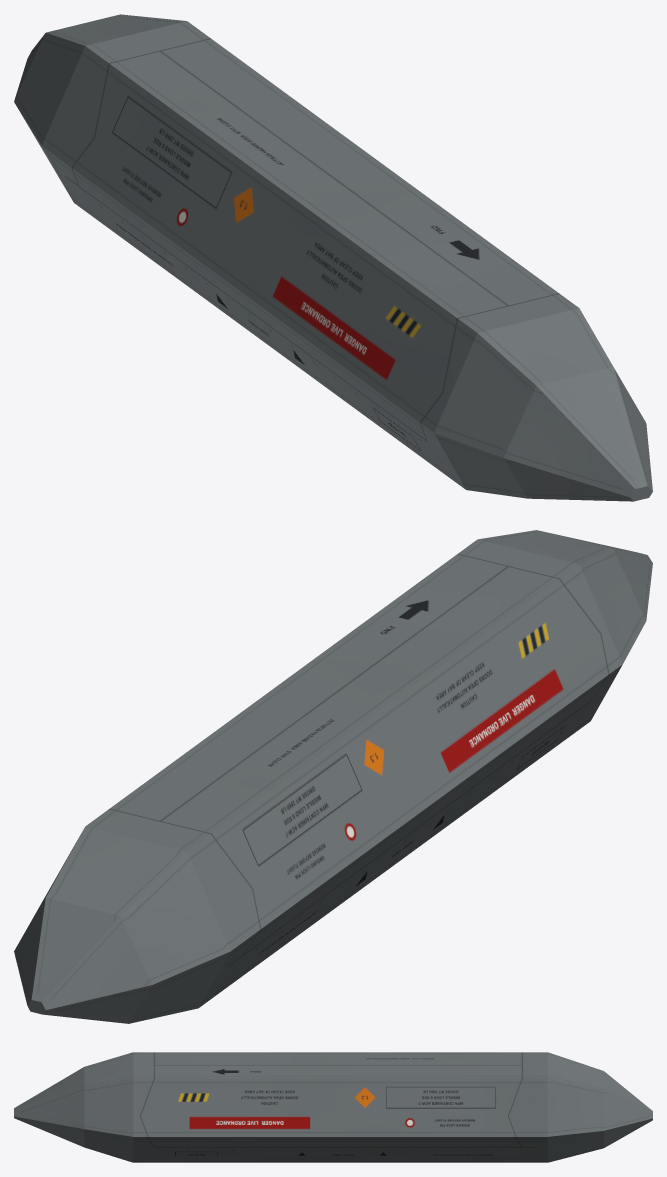
Rendered from ACO_WeaponPod.fbx.
3 views of the same model, one above another, from view 1: azimuth 30°, elevation 25°; view 2: azimuth 150°, elevation 25°; view 3: azimuth 270°, elevation 25° (orthographic). The views are drawn at different scales.
Parts seen in each view (by area): view 1: ACO_WeaponPod_DoorR, ACO_WeaponPod_Shell, ACO_WeaponPod_DoorL; view 2: ACO_WeaponPod_DoorR, ACO_WeaponPod_Shell, ACO_WeaponPod_DoorL; view 3: ACO_WeaponPod_DoorL, ACO_WeaponPod_Shell, ACO_WeaponPod_DoorR.
Part boxes in pixels (left/top/right/bottom): ACO_WeaponPod_DoorR: left=72, top=51, right=507, bottom=440; ACO_WeaponPod_Shell: left=14, top=14, right=652, bottom=501; ACO_WeaponPod_DoorL: left=160, top=38, right=558, bottom=305; ACO_WeaponPod_DoorR: left=160, top=566, right=608, bottom=955; ACO_WeaponPod_Shell: left=14, top=530, right=652, bottom=1023; ACO_WeaponPod_DoorL: left=109, top=554, right=507, bottom=821; ACO_WeaponPod_DoorL: left=140, top=1065, right=522, bottom=1147; ACO_WeaponPod_Shell: left=14, top=1052, right=652, bottom=1162; ACO_WeaponPod_DoorR: left=154, top=1052, right=522, bottom=1065.
Size of the model in its own units: 0.82 by 0.69 by 4.55.
1 material, 1 textured.
